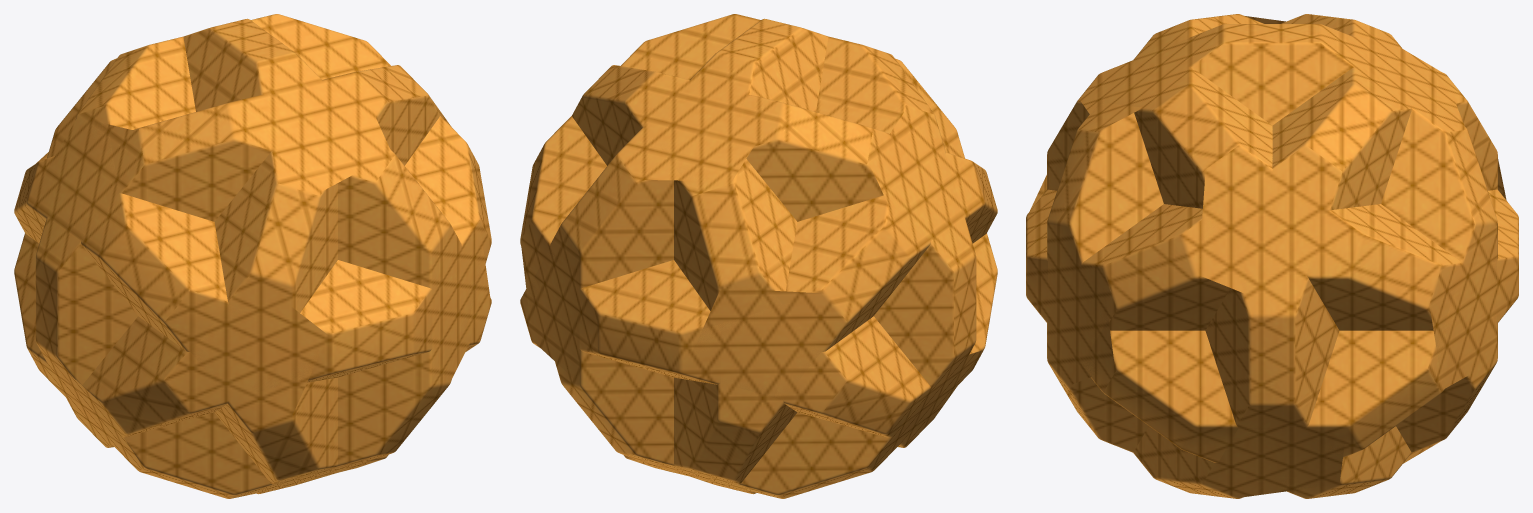
Rendered from static.gltf.
3 views of the same model, side by side, from view 1: azimuth 30°, elevation 25°; view 2: azimuth 150°, elevation 25°; view 3: azimuth 270°, elevation 25° (orthographic). The views are drawn at different scales.
Visible parts, largest first — view 1: Hedra005; view 2: Hedra005; view 3: Hedra005.
Boxes of the visible parts, x1=… form: Hedra005: x1=14, y1=14, x2=491, y2=498; Hedra005: x1=520, y1=14, x2=997, y2=498; Hedra005: x1=1026, y1=14, x2=1518, y2=498.
Bounding box in the file's own units: 2.48 × 2.48 × 2.48.
